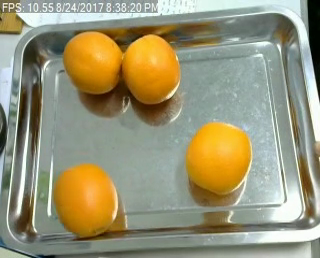Orange: (184, 120, 253, 195), (115, 34, 180, 110), (53, 164, 118, 237), (63, 30, 123, 93)
